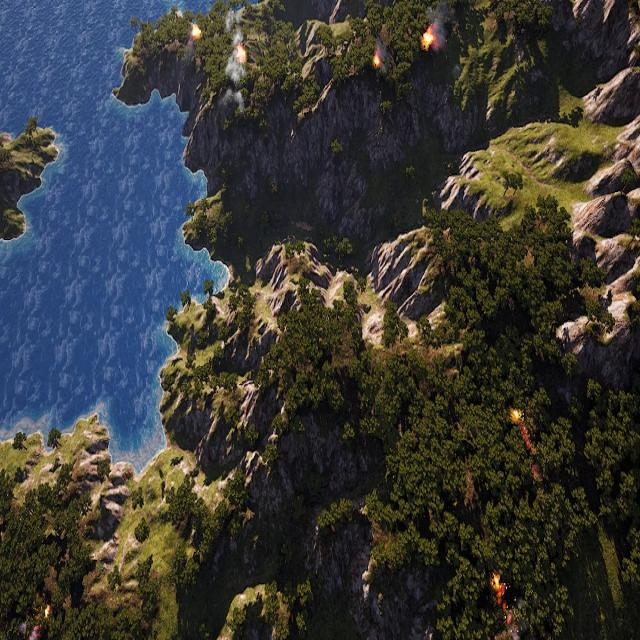fire: (491, 573, 508, 618), (521, 424, 536, 456), (422, 28, 436, 48), (532, 463, 542, 481), (238, 44, 247, 61), (512, 409, 522, 424), (191, 25, 200, 40), (42, 604, 51, 619), (374, 55, 382, 68)
smoke: (217, 10, 247, 117), (430, 2, 451, 53), (376, 34, 392, 74), (11, 623, 43, 640), (186, 39, 194, 57)
